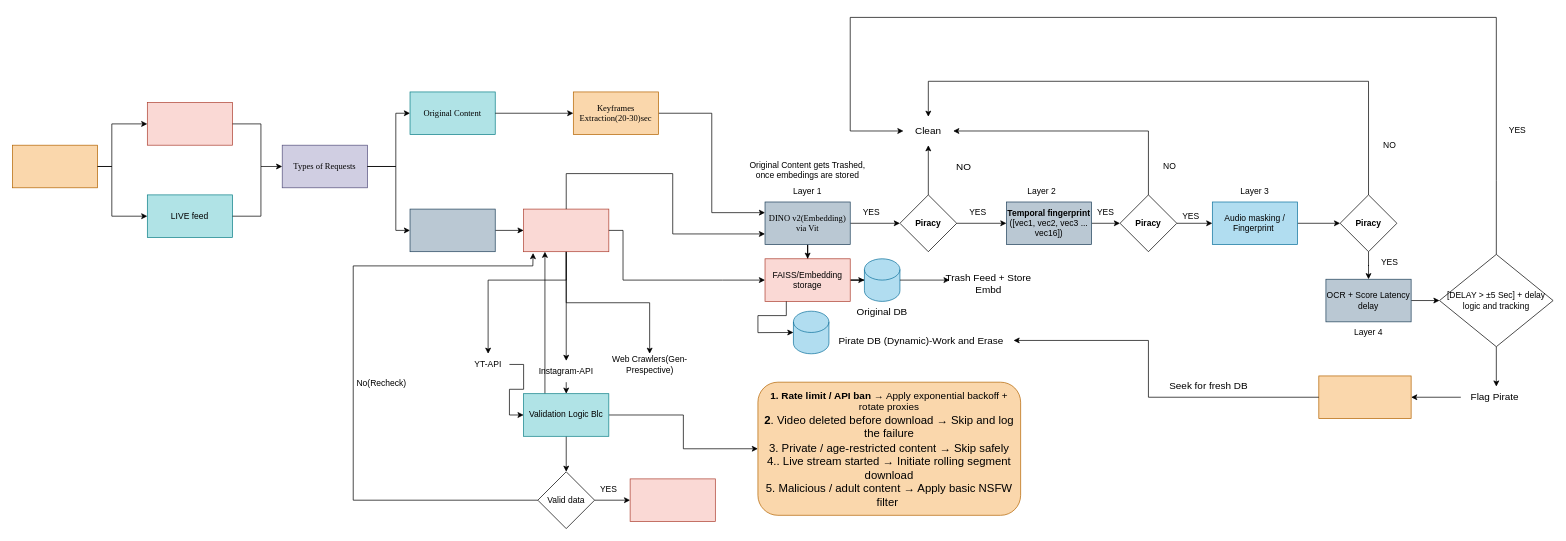
Some shapes in this 1566 by 541 pixel diagram are drawn without their labels. Here are the shapes that lost their labels. From the top down, the box of each, then its label:
(147, 102, 233, 145): Static Feed
(12, 144, 98, 188): USER(main client)
(409, 208, 495, 252): Pirated Content
(523, 208, 609, 252): Agents
(864, 258, 900, 301): DB-1
(793, 310, 829, 354): DB-2
(1318, 375, 1411, 419): Check for another Possible pirated feed stream
(629, 478, 715, 521): Back to Layer 1
